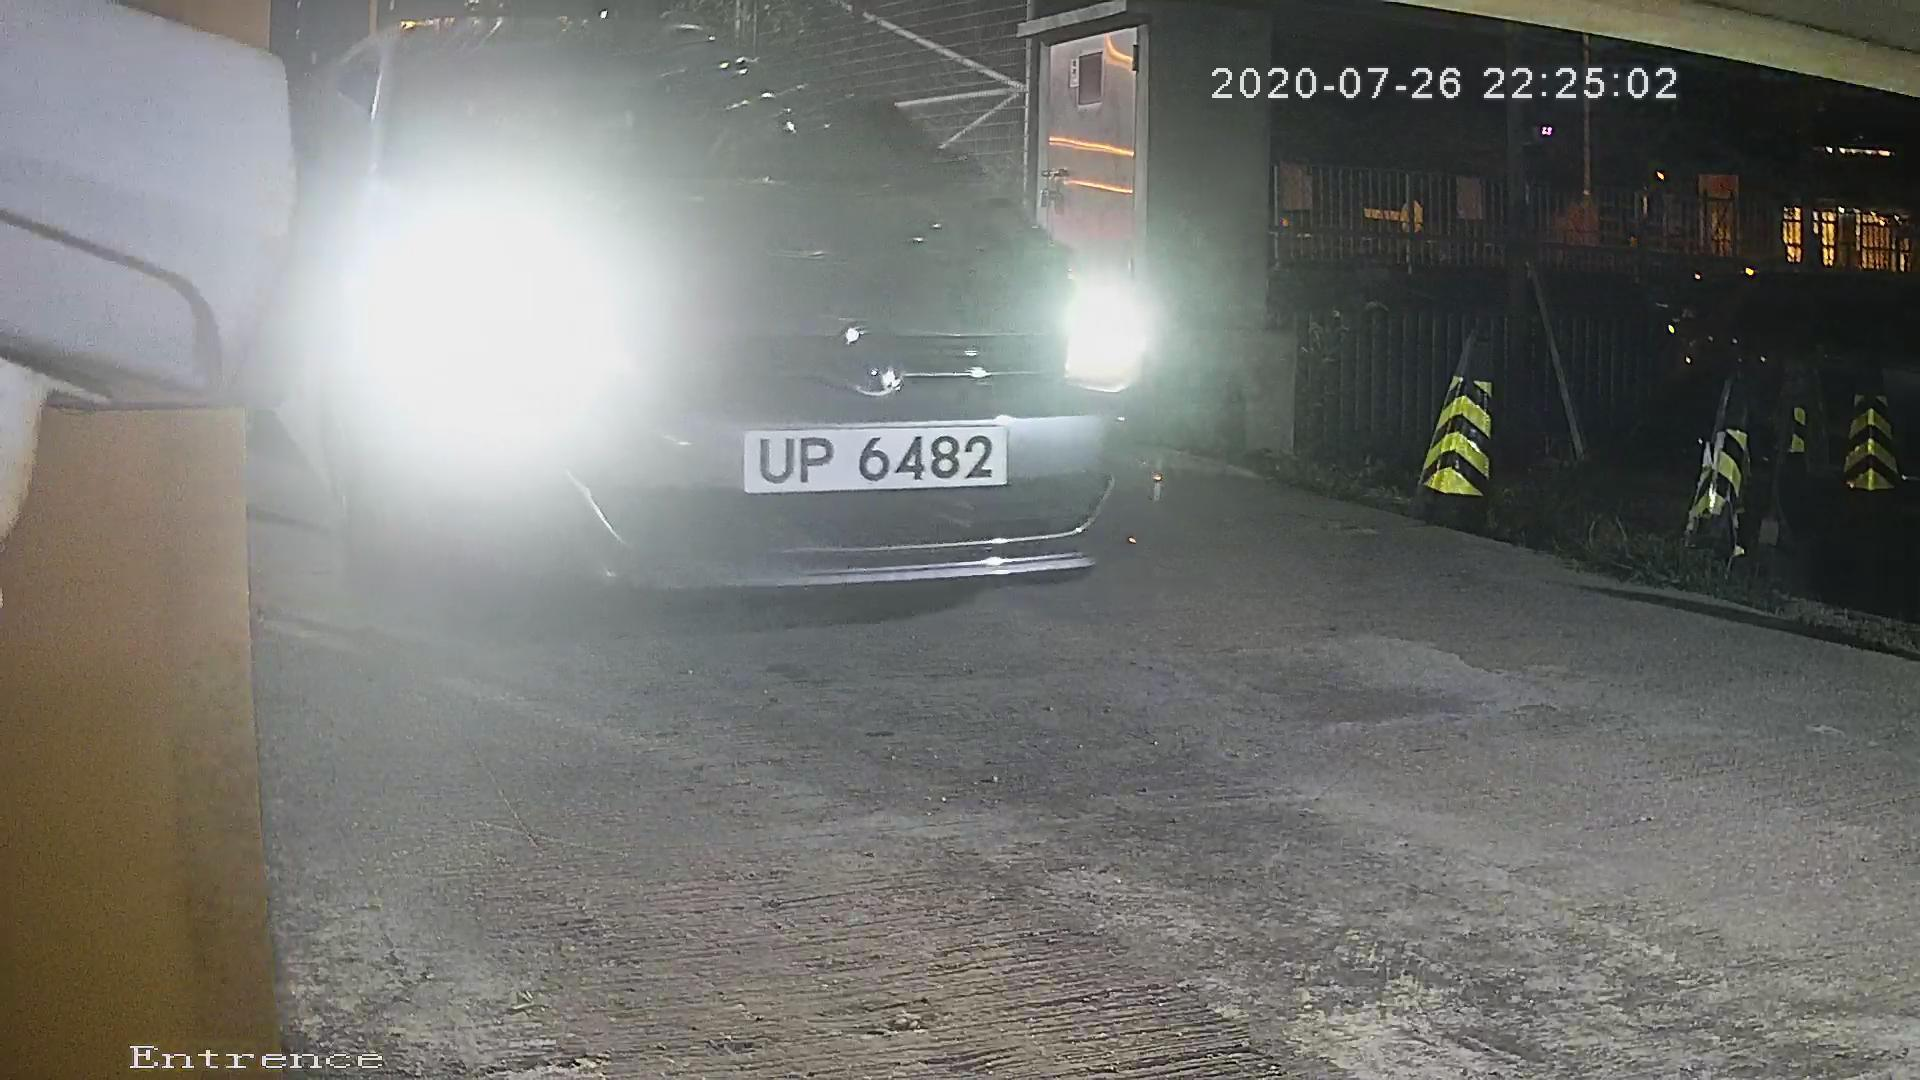License Plate: (703, 406, 1038, 507)
